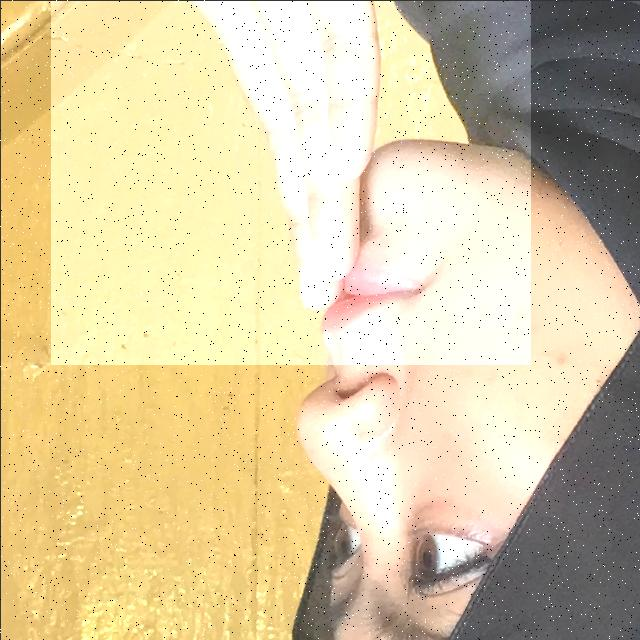ganteng: (50, 0, 530, 364)
